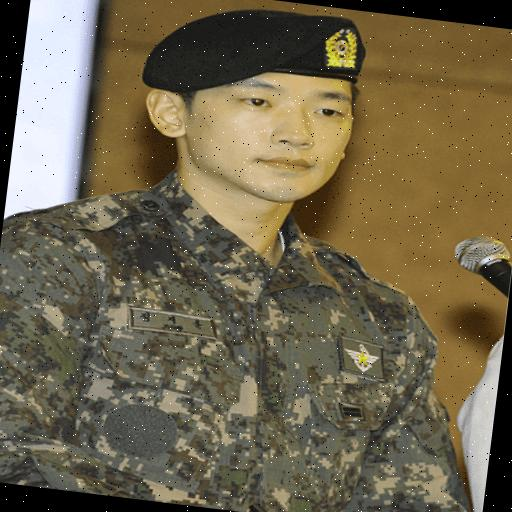korea army: (0, 169, 501, 512), (0, 173, 441, 512)
